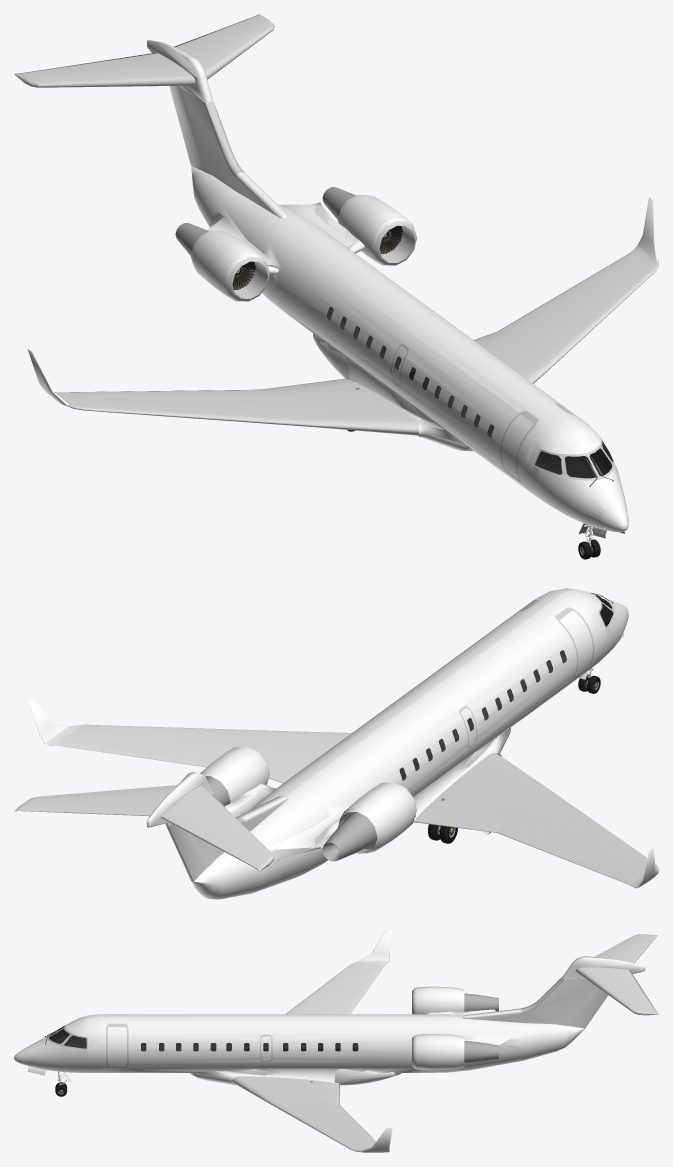
The model's file is bombardier_crj-200.glb.
The picture shows the model from 3 angles, top to bottom: view 1: azimuth 30°, elevation 25°; view 2: azimuth 150°, elevation 25°; view 3: azimuth 270°, elevation 25°; orthographic projection. The views are drawn at different scales.
Visible parts, largest first — view 1: Material2 (×7), Material3 (×2); view 2: Material2 (×5), Material3 (×2); view 3: Material2 (×5), Material3 (×2).
Part boxes in pixels (box(x1,y1,x2,y2)): Material2 (×7): box(14, 14, 658, 546); Material3 (×2): box(204, 101, 624, 533); Material2 (×5): box(14, 588, 658, 899); Material3 (×2): box(212, 595, 614, 823); Material2 (×5): box(14, 928, 658, 1152); Material3 (×2): box(47, 977, 564, 1084).
Bounding box in the file's own units: 839 × 268 × 1142.
24 materials, 7 textured.
